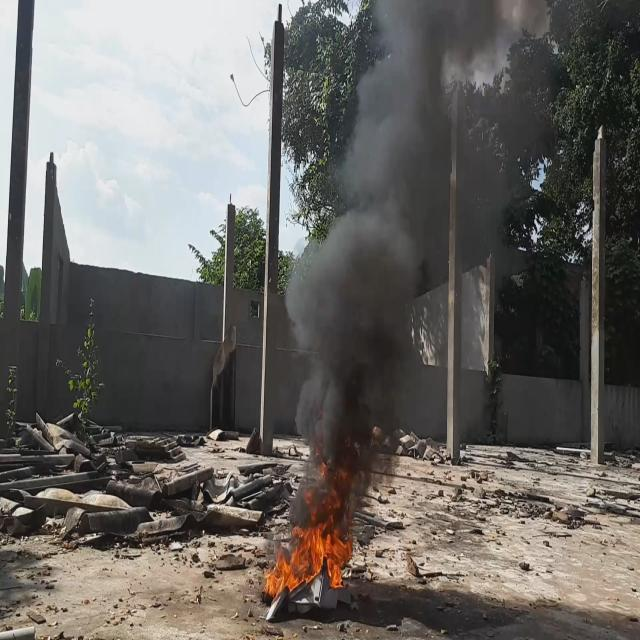Fire: (262, 466, 361, 604)
Smoke: (282, 0, 503, 497)
